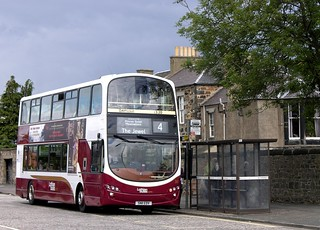bus: (15, 72, 182, 212)
